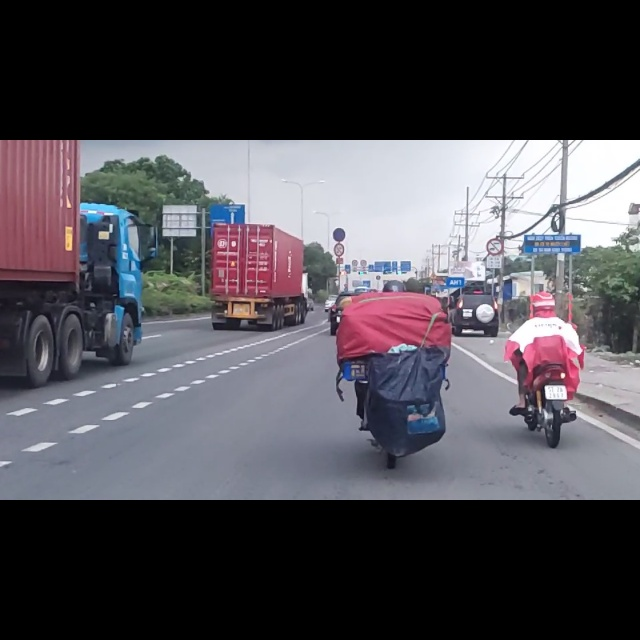bien_chi_dan: (487, 175, 503, 206), (332, 155, 346, 180), (334, 184, 345, 207)
